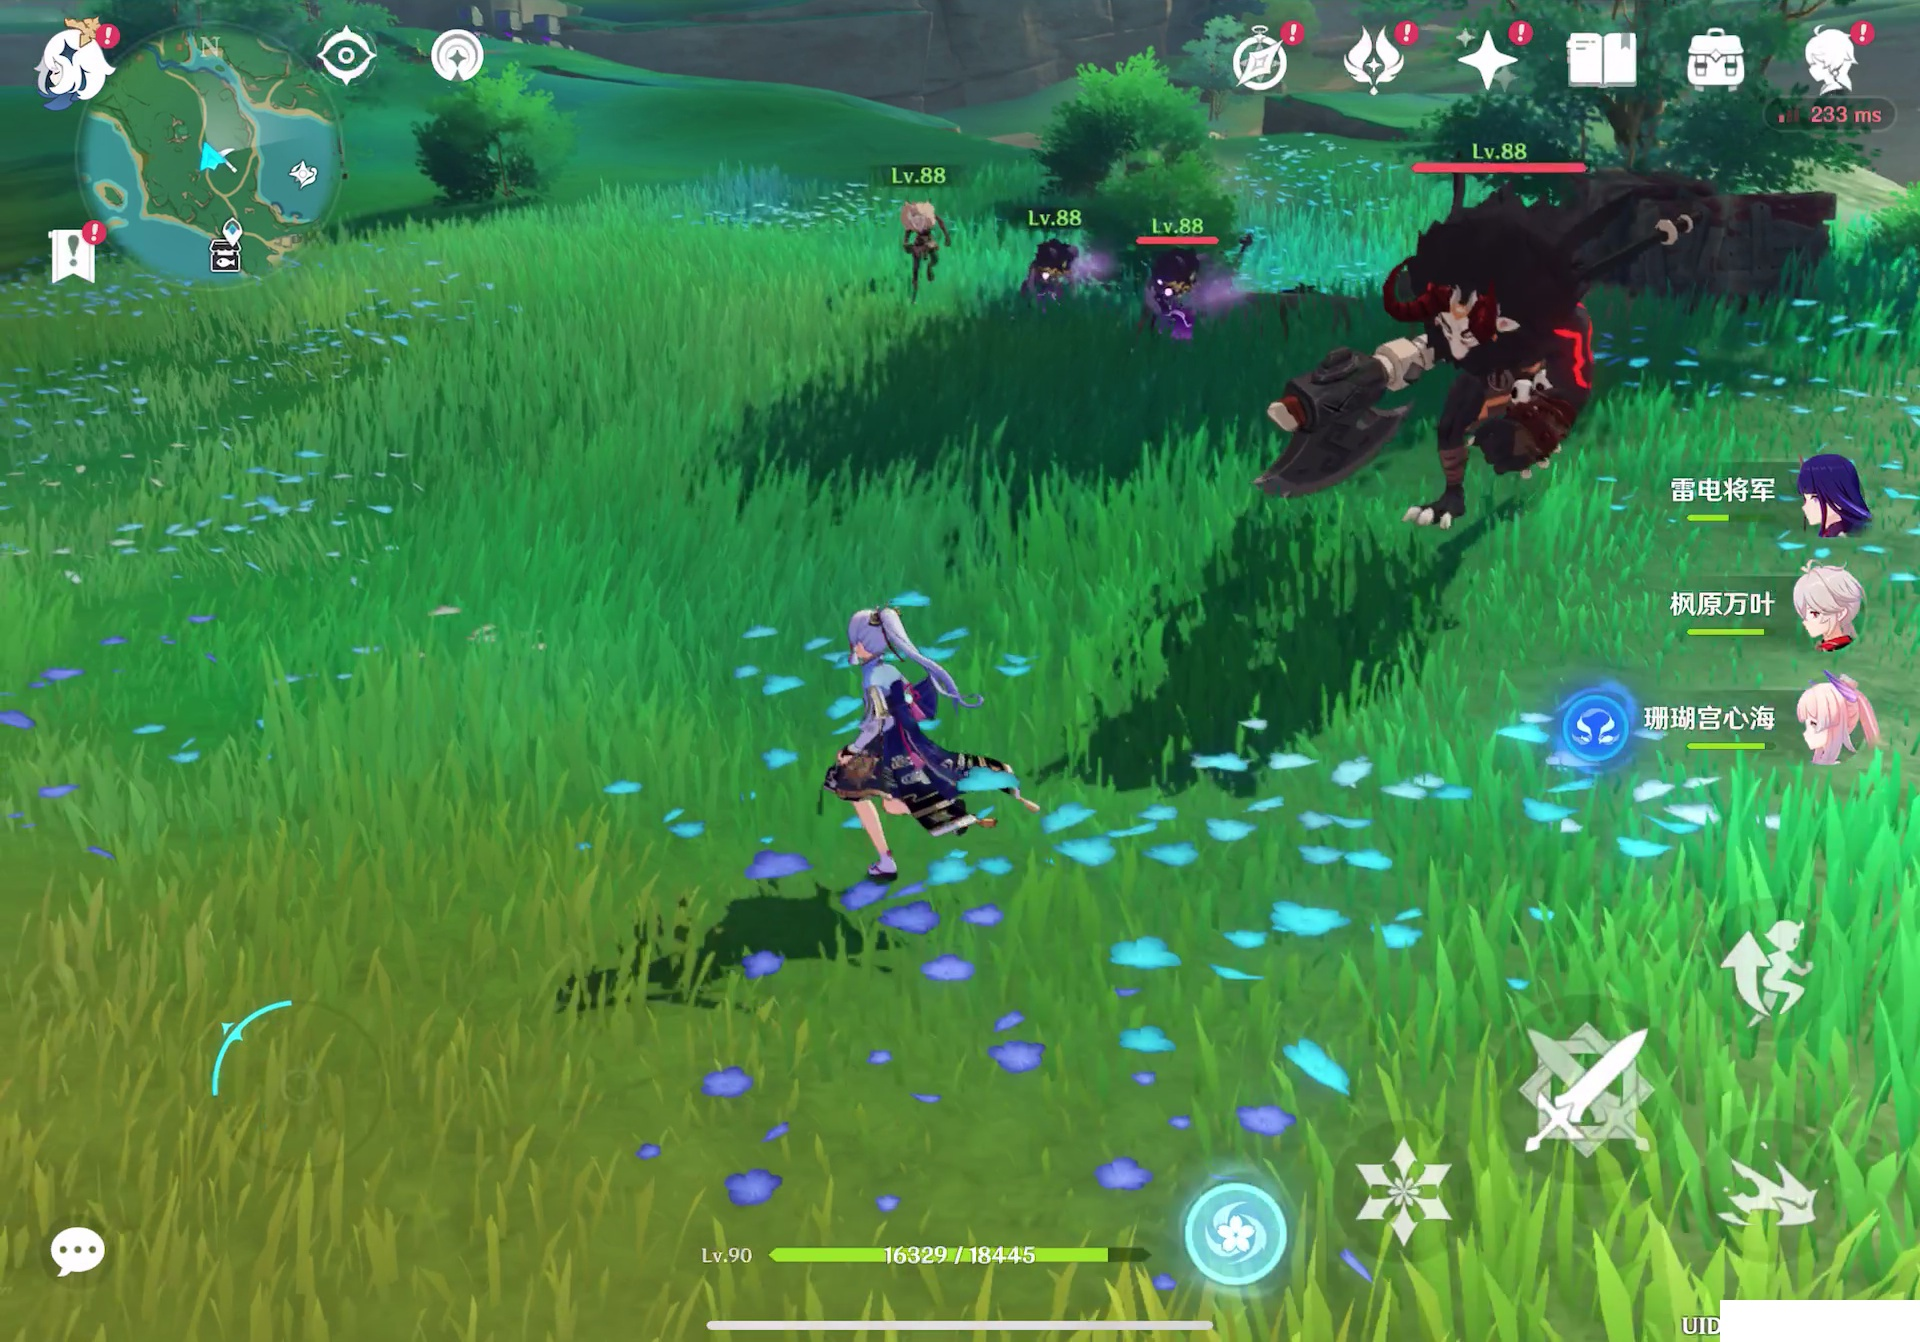NTR: (1271, 187, 1614, 540)
丘丘人: (1137, 251, 1231, 352), (891, 197, 961, 290), (1029, 235, 1087, 314)
神里绫龟: (810, 605, 1018, 897)
